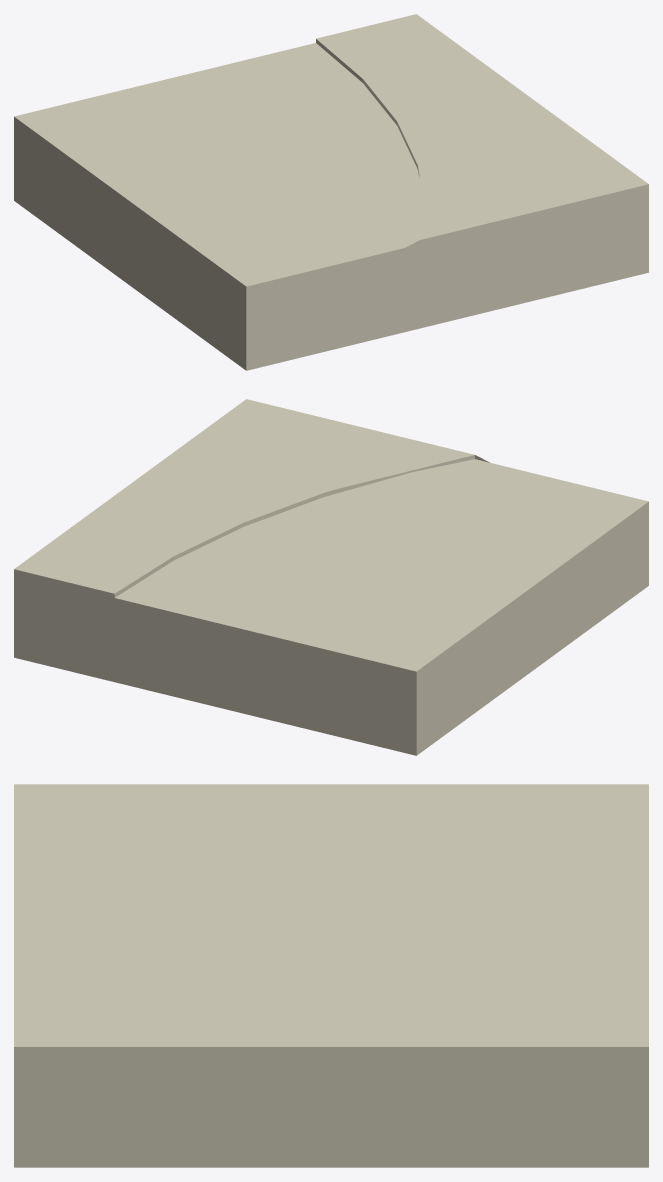
Rendered from roadtile_070.glb.
The picture shows the model from 3 angles, top to bottom: view 1: azimuth 30°, elevation 25°; view 2: azimuth 150°, elevation 25°; view 3: azimuth 270°, elevation 25°; orthographic projection. The views are drawn at different scales.
Visible parts, largest first — view 1: Mesh1 Group1 Model; view 2: Mesh1 Group1 Model; view 3: Mesh1 Group1 Model.
Boxes of the visible parts, left/top/right/bottom form: Mesh1 Group1 Model: left=14, top=14, right=648, bottom=370; Mesh1 Group1 Model: left=14, top=399, right=648, bottom=755; Mesh1 Group1 Model: left=14, top=784, right=648, bottom=1167.
Size of the model in its own units: 3 by 0.63 by 3.
